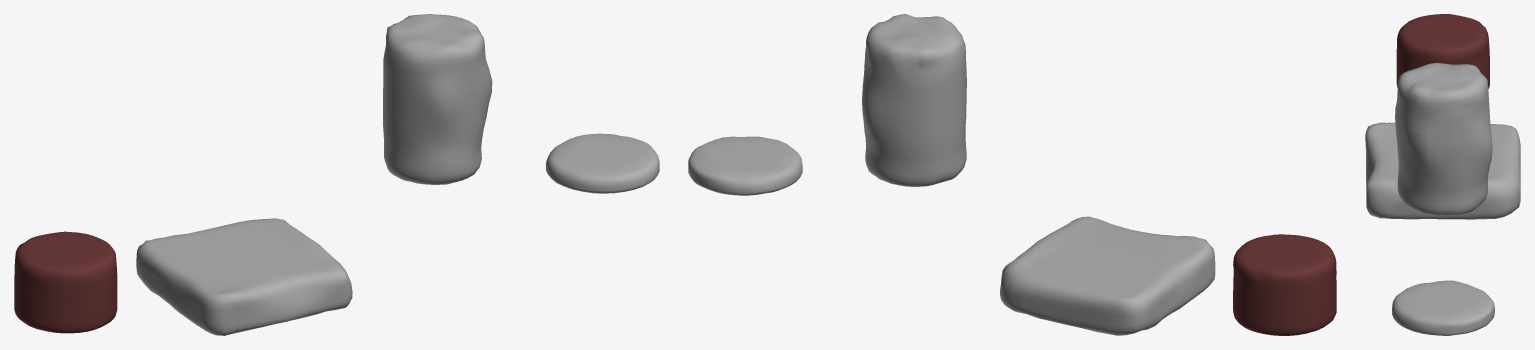
File: Columna por partes.fbx
The picture shows the model from 3 angles, left to right: view 1: azimuth 30°, elevation 25°; view 2: azimuth 150°, elevation 25°; view 3: azimuth 270°, elevation 25°; orthographic projection. The views are drawn at different scales.
Visible parts, largest first — view 1: polySurface5, polySurface6, polySurface3, polySurface1; view 2: polySurface5, polySurface6, polySurface3, polySurface1; view 3: polySurface6, polySurface5, polySurface3, polySurface1.
Part boxes in pixels (x1,y1,x2,y2): polySurface5: (136,218,352,335); polySurface6: (383,14,492,184); polySurface3: (14,231,117,333); polySurface1: (546,133,659,193); polySurface5: (1000,216,1215,335); polySurface6: (862,14,966,186); polySurface3: (1233,234,1336,335); polySurface1: (688,136,802,195); polySurface6: (1395,63,1492,215); polySurface5: (1365,122,1520,219); polySurface3: (1396,14,1489,88); polySurface1: (1392,280,1494,335).
Size of the model in its own units: 4.34 by 1.44 by 1.02.
